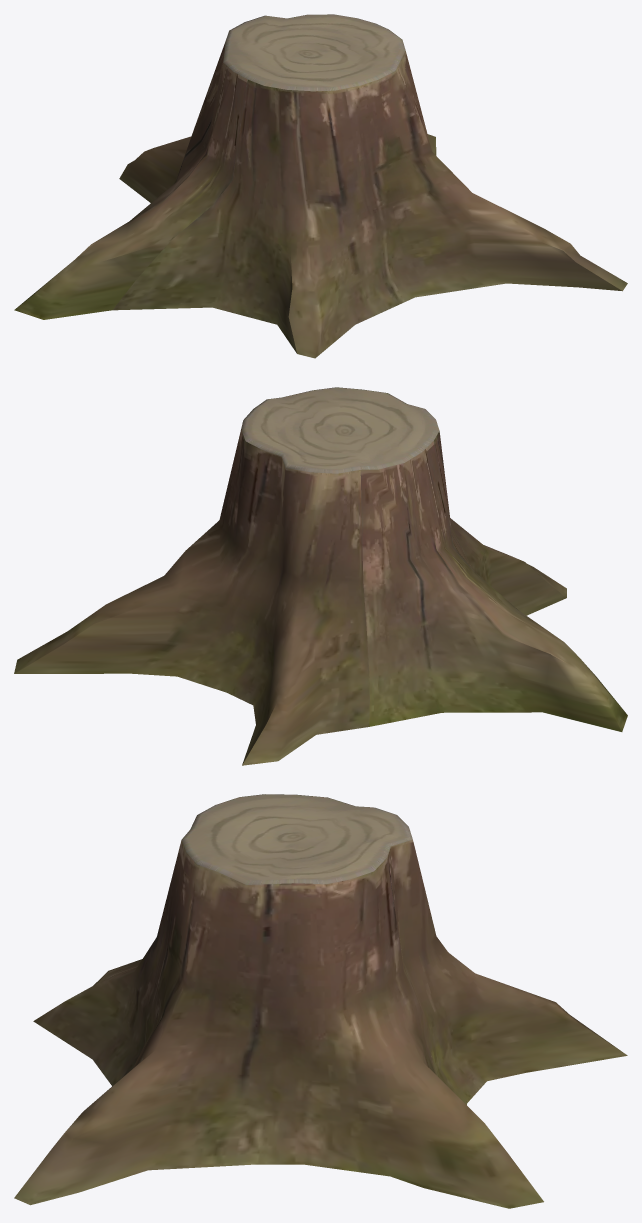
3 renders of one model, top to bottom at view 1: azimuth 30°, elevation 25°; view 2: azimuth 150°, elevation 25°; view 3: azimuth 270°, elevation 25°, orthographic. The views are drawn at different scales.
Visible parts, largest first — view 1: body0_model0_lod0_mesh0; view 2: body0_model0_lod0_mesh0; view 3: body0_model0_lod0_mesh0.
Part boxes in pixels (x1=…): body0_model0_lod0_mesh0: x1=14, y1=14, x2=627, y2=358; body0_model0_lod0_mesh0: x1=14, y1=387, x2=627, y2=765; body0_model0_lod0_mesh0: x1=14, y1=794, x2=627, y2=1208.
Bounding box in the file's own units: 211 × 83.65 × 187.
Materials: 1 (1 with a texture image).
